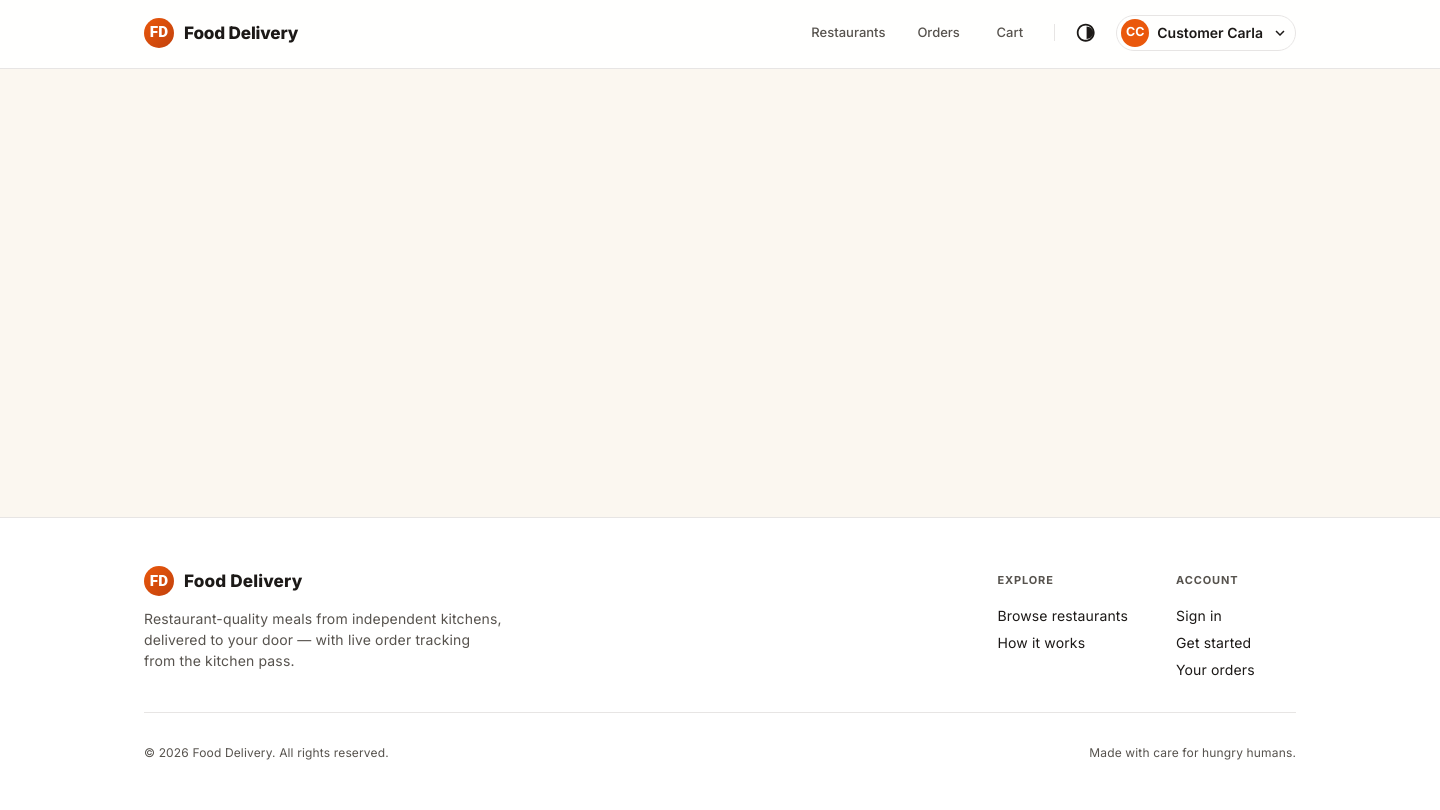
Test: App header › hides sign-in/sign-up and shows the customer nav once a customer is signed in
Expected: the link "Cart" is shown, [997,24,1023,40]
Expected: the link "Orders" is shown, [917,24,960,40]
What coordinates should you click on to do the following:
click the button with aria-label "account menu for customer carla"
I would click on:
 (1206, 33)
Its box is [1116,15,1296,51].
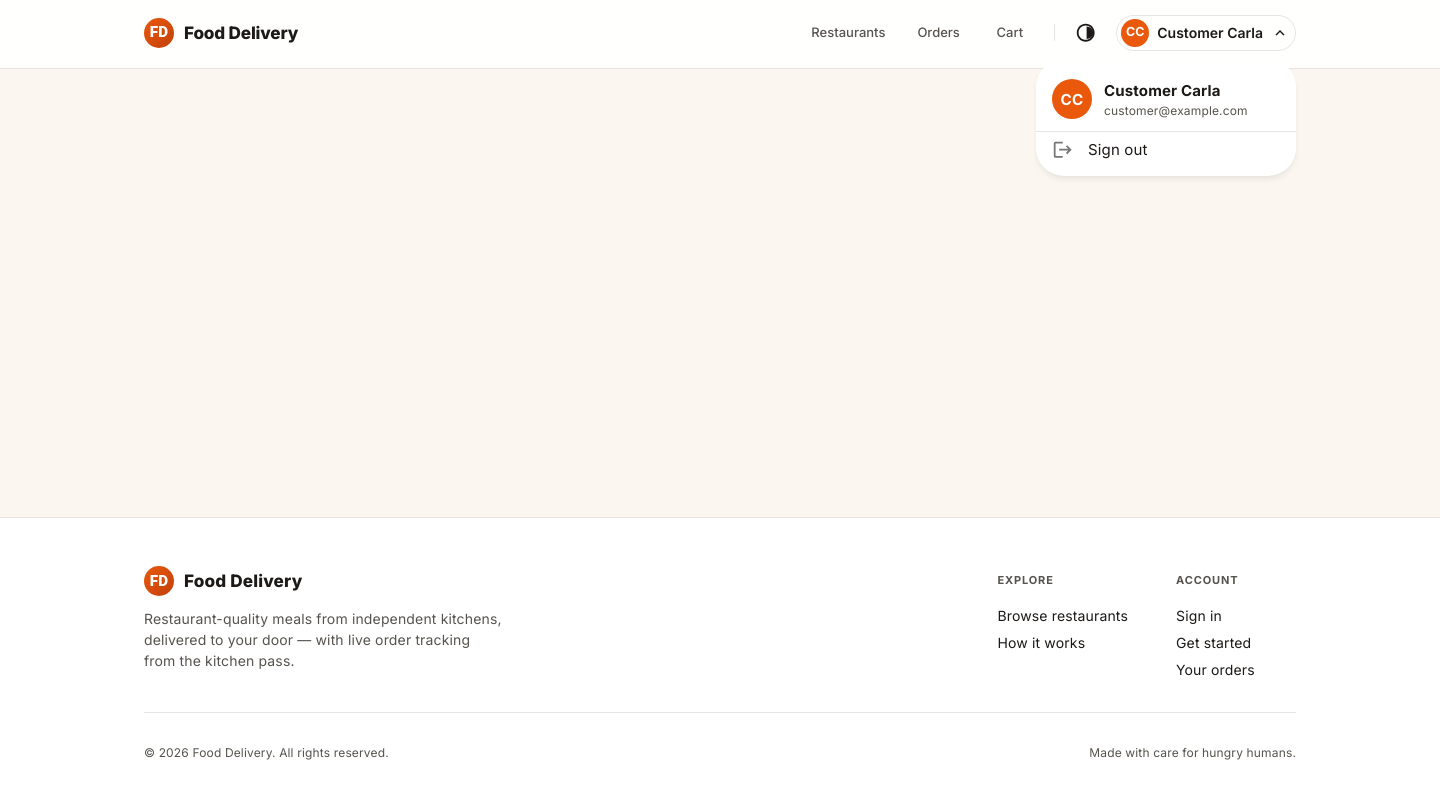
Expected: the heading "Customer Carla" is shown, [1104,79,1221,102]
Expected: the text "customer@example.com" is shown, [1104,102,1248,118]
Expected: the menu item "Sign out" is shown, [1052,139,1148,161]
